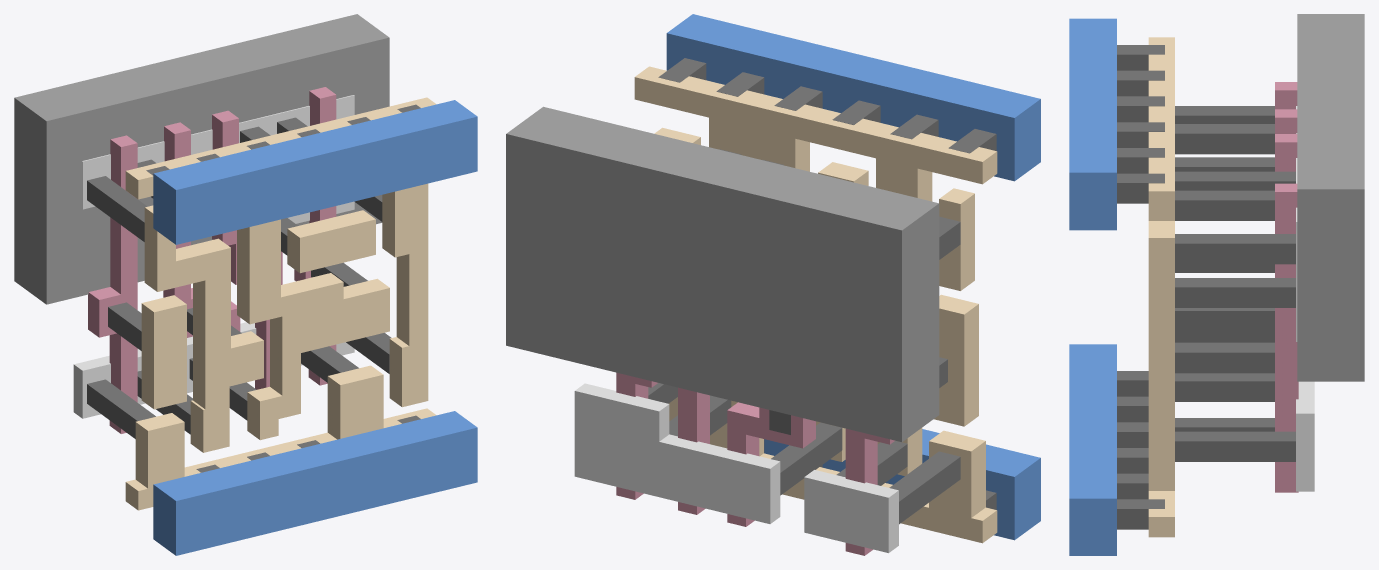
File: sky130_fd_sc_hd__and2b_1.gds.gltf
3 renders of one model, left to right at view 1: azimuth 30°, elevation 25°; view 2: azimuth 150°, elevation 25°; view 3: azimuth 270°, elevation 25°, orthographic. The views are drawn at different scales.
Visible parts, largest first — view 1: sky130_fd_sc_hd__and2b_1_li1, sky130_fd_sc_hd__and2b_1_met1, sky130_fd_sc_hd__and2b_1_nwell, sky130_fd_sc_hd__and2b_1_poly, sky130_fd_sc_hd__and2b_1_licon, sky130_fd_sc_hd__and2b_1_diff, sky130_fd_sc_hd__and2b_1_mcon; view 2: sky130_fd_sc_hd__and2b_1_nwell, sky130_fd_sc_hd__and2b_1_li1, sky130_fd_sc_hd__and2b_1_met1, sky130_fd_sc_hd__and2b_1_diff, sky130_fd_sc_hd__and2b_1_licon, sky130_fd_sc_hd__and2b_1_poly, sky130_fd_sc_hd__and2b_1_mcon; view 3: sky130_fd_sc_hd__and2b_1_licon, sky130_fd_sc_hd__and2b_1_nwell, sky130_fd_sc_hd__and2b_1_met1, sky130_fd_sc_hd__and2b_1_li1, sky130_fd_sc_hd__and2b_1_mcon, sky130_fd_sc_hd__and2b_1_poly, sky130_fd_sc_hd__and2b_1_diff.
Part boxes in pixels (left/top/right/bottom): sky130_fd_sc_hd__and2b_1_li1: left=125, top=97, right=436, bottom=510; sky130_fd_sc_hd__and2b_1_met1: left=153, top=100, right=477, bottom=555; sky130_fd_sc_hd__and2b_1_nwell: left=14, top=14, right=389, bottom=304; sky130_fd_sc_hd__and2b_1_poly: left=88, top=87, right=336, bottom=433; sky130_fd_sc_hd__and2b_1_licon: left=87, top=117, right=391, bottom=438; sky130_fd_sc_hd__and2b_1_diff: left=73, top=95, right=354, bottom=418; sky130_fd_sc_hd__and2b_1_mcon: left=146, top=104, right=420, bottom=472; sky130_fd_sc_hd__and2b_1_nwell: left=506, top=106, right=939, bottom=441; sky130_fd_sc_hd__and2b_1_li1: left=634, top=66, right=997, bottom=543; sky130_fd_sc_hd__and2b_1_met1: left=666, top=14, right=1040, bottom=540; sky130_fd_sc_hd__and2b_1_diff: left=574, top=383, right=898, bottom=553; sky130_fd_sc_hd__and2b_1_licon: left=648, top=149, right=960, bottom=524; sky130_fd_sc_hd__and2b_1_poly: left=616, top=372, right=894, bottom=555; sky130_fd_sc_hd__and2b_1_mcon: left=658, top=58, right=996, bottom=509; sky130_fd_sc_hd__and2b_1_licon: left=1175, top=106, right=1295, bottom=461; sky130_fd_sc_hd__and2b_1_nwell: left=1297, top=14, right=1364, bottom=381; sky130_fd_sc_hd__and2b_1_met1: left=1069, top=18, right=1116, bottom=555; sky130_fd_sc_hd__and2b_1_li1: left=1148, top=37, right=1174, bottom=537; sky130_fd_sc_hd__and2b_1_mcon: left=1117, top=45, right=1164, bottom=529; sky130_fd_sc_hd__and2b_1_poly: left=1275, top=82, right=1298, bottom=492; sky130_fd_sc_hd__and2b_1_diff: left=1296, top=106, right=1314, bottom=491.
Bounding box in the file's own units: 3.14 × 3.2 × 2.24.
